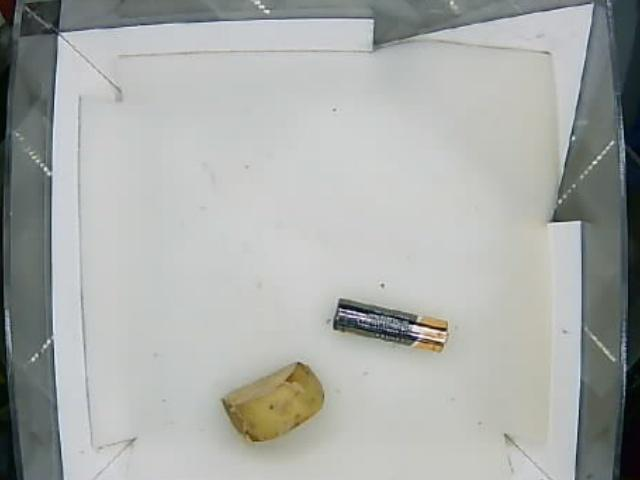Battery: (332, 299, 454, 354)
Potato: (221, 362, 327, 444)
